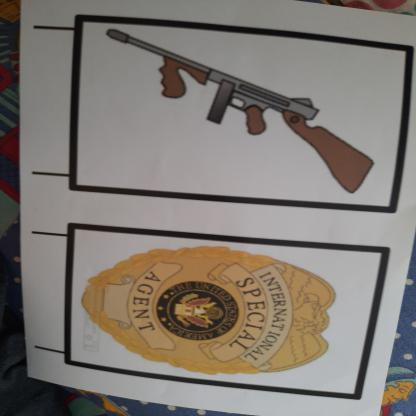Bootlegger: (93, 17, 415, 197)
G-man: (74, 235, 360, 386)
